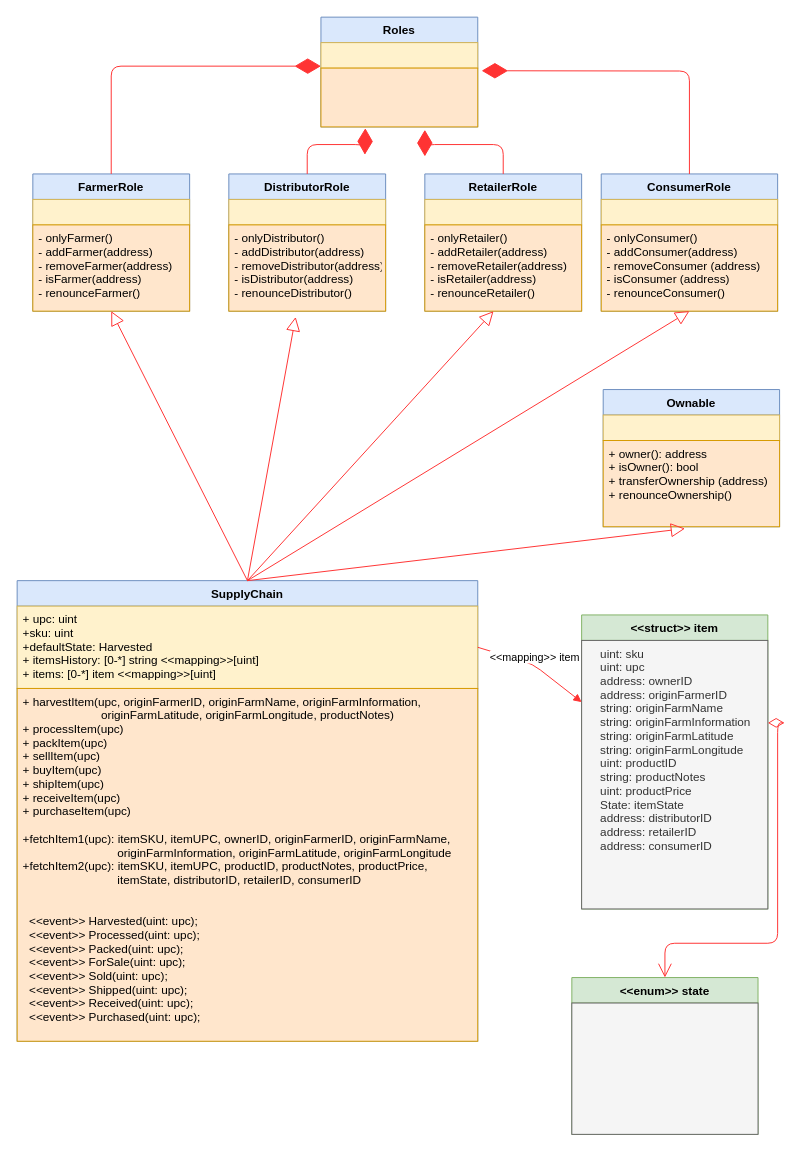
Image size: 811x1154. Some labels were removed from this diagram. Here are the shapes that lost their labels. From the top down, the centre of each, then its label:
pixel 399 55: - Role : struct
pixel 399 97: - add() - remove() - has()
pixel 111 211: - farmerRole: Role
pixel 307 211: - distributorRole: Role
pixel 503 211: - retailerRole: Role
pixel 689 211: - consumerRole: Role
pixel 691 427: - origOwner: address
pixel 664 1068: Harvested Processed Packed ForSale Sold Shipped Received Purchased
